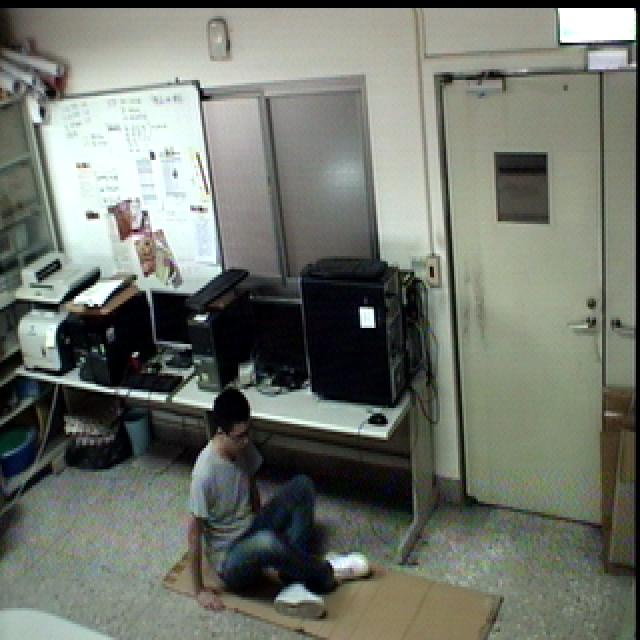sit: (182, 378, 377, 622)
